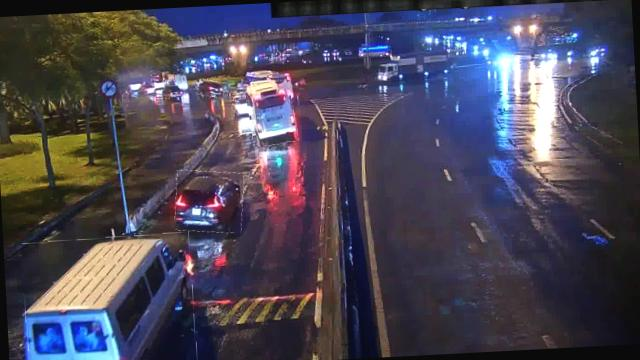Bus: (21, 232, 196, 360), (246, 81, 297, 146)
Car: (173, 168, 245, 236), (198, 78, 228, 98), (232, 92, 255, 116)
